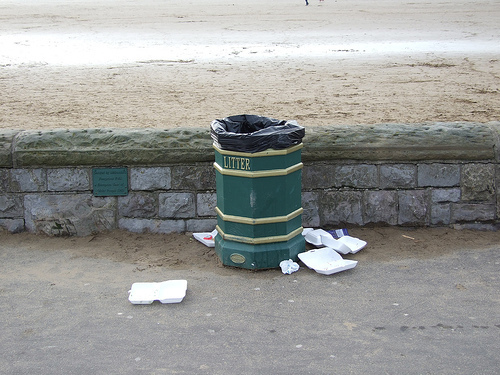litter: (302, 226, 366, 252), (297, 249, 355, 274), (128, 280, 187, 303), (193, 229, 214, 249), (278, 260, 300, 274)
